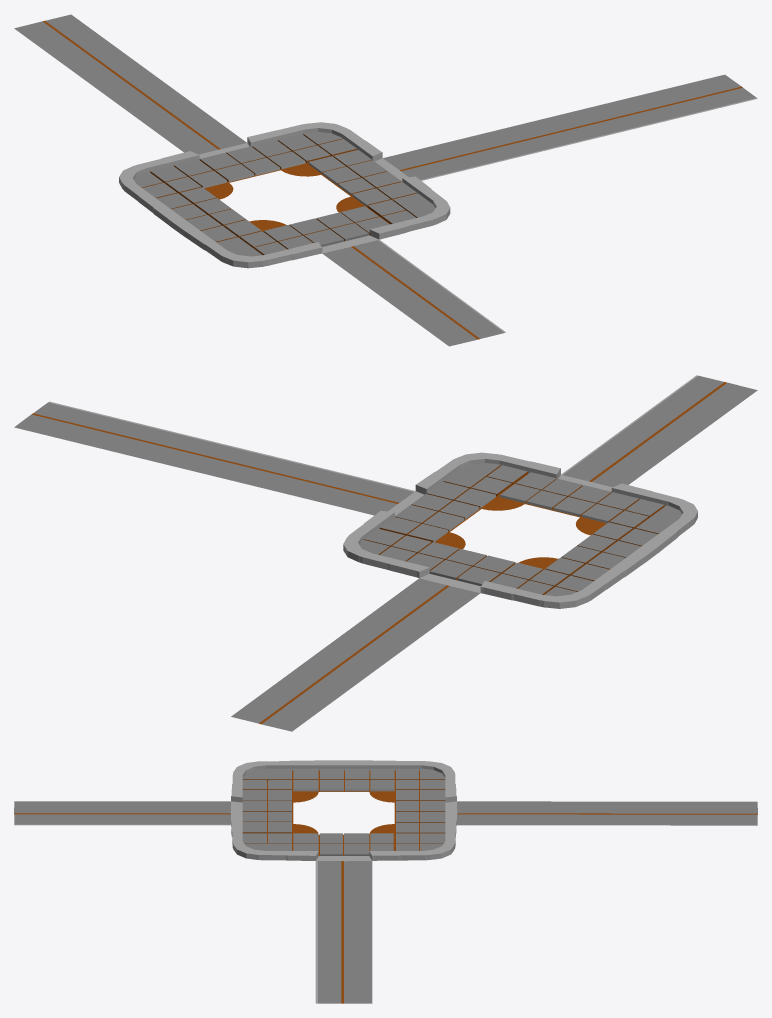
The model's file is depad.fbx.
The picture shows the model from 3 angles, top to bottom: view 1: azimuth 30°, elevation 25°; view 2: azimuth 150°, elevation 25°; view 3: azimuth 270°, elevation 25°; orthographic projection. The views are drawn at different scales.
Parts seen in each view (by area): view 1: Plane; view 2: Plane; view 3: Plane.
Boxes of the visible parts, box(x1,y1,x2,y2) form: Plane: box(14, 14, 757, 346); Plane: box(14, 375, 757, 731); Plane: box(14, 760, 757, 1003).
Bounding box in the file's own units: 27499 × 295 × 36273.
